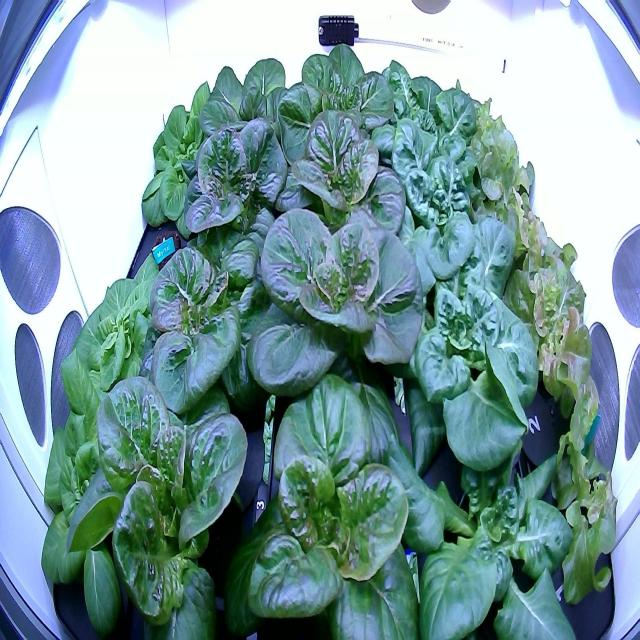pod: (146, 223, 186, 277)
young: (215, 348, 457, 640), (365, 202, 558, 484), (64, 361, 258, 640), (237, 187, 428, 452), (400, 385, 586, 640), (36, 347, 177, 636), (129, 221, 266, 442), (254, 92, 420, 255), (54, 247, 196, 433), (257, 25, 413, 188), (168, 108, 294, 290), (364, 106, 509, 264), (134, 71, 249, 242), (197, 45, 313, 188), (362, 53, 484, 177), (426, 319, 437, 320)
